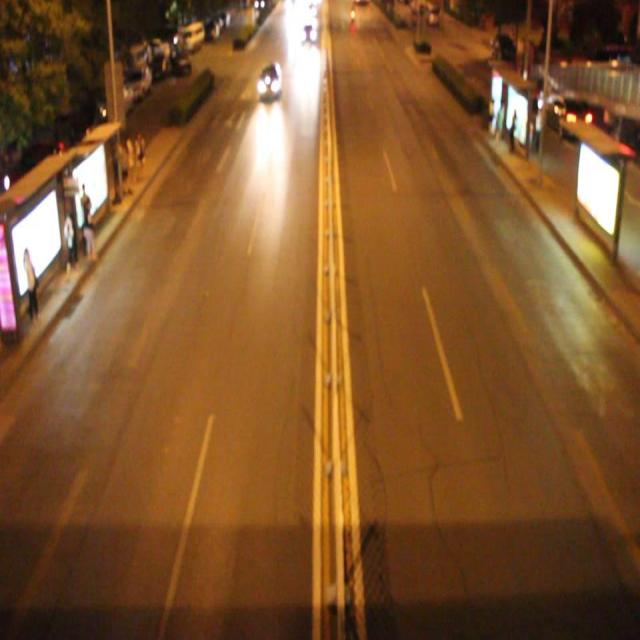car: (256, 62, 282, 100)
